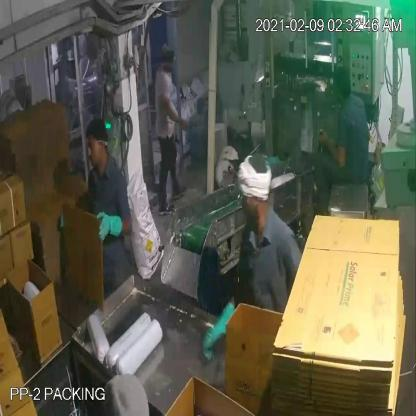glove: (196, 302, 241, 358), (92, 204, 129, 242)
no_glove: (313, 126, 355, 172), (161, 86, 193, 138)
